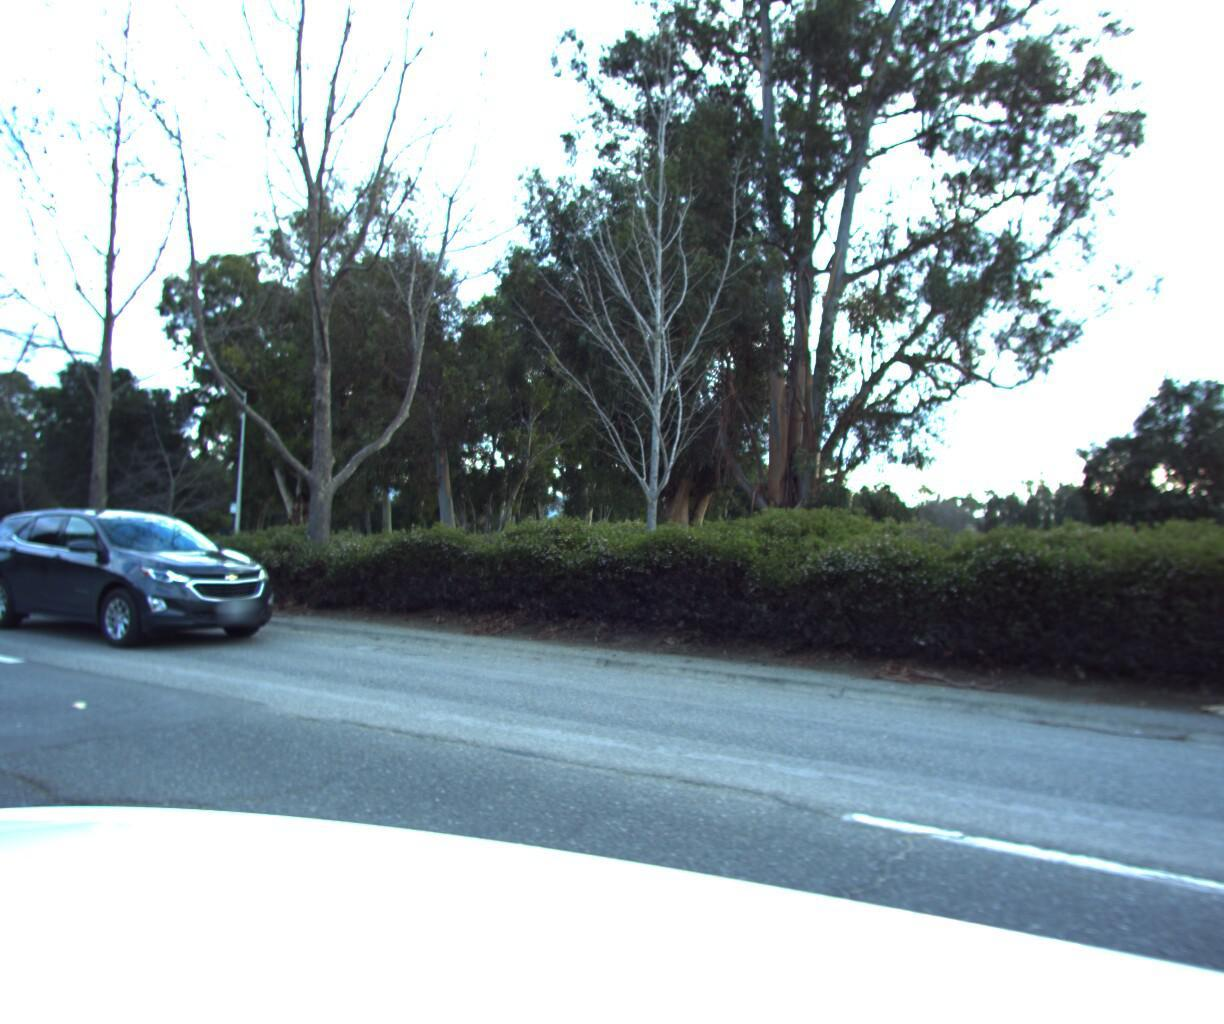car: (0, 503, 303, 657)
